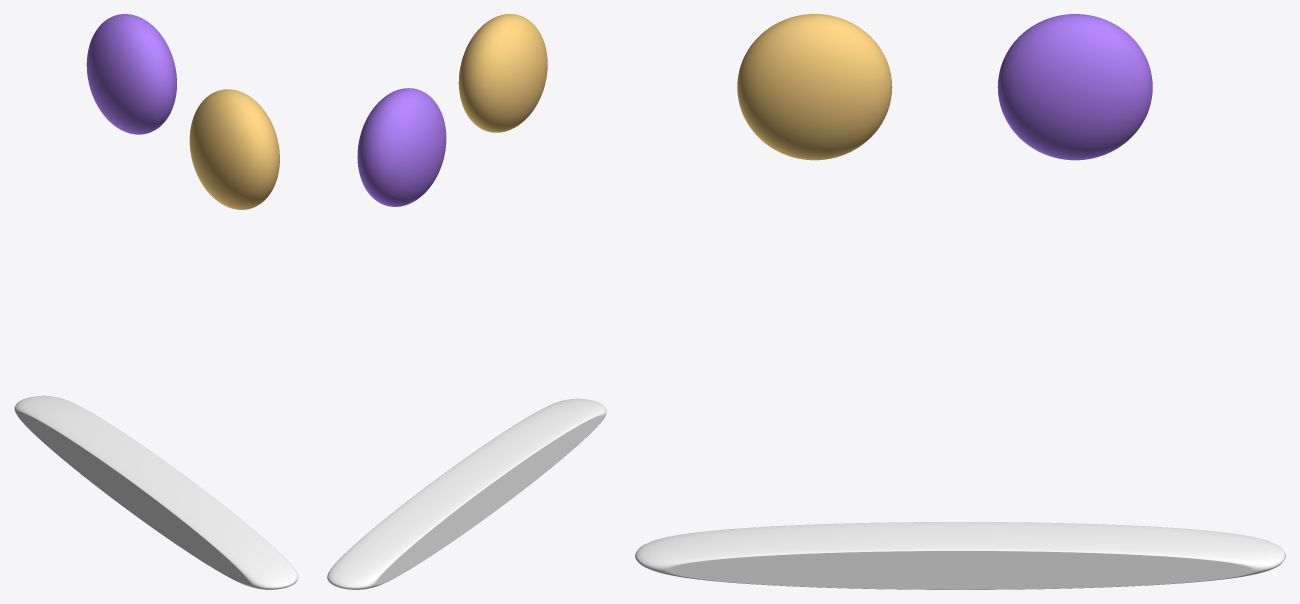
The picture shows the model from 3 angles, left to right: view 1: azimuth 30°, elevation 25°; view 2: azimuth 150°, elevation 25°; view 3: azimuth 270°, elevation 25°; orthographic projection. The views are drawn at different scales.
Parts seen in each view (by area): view 1: Sphere (×2), Cylinder 3, Text; view 2: Sphere (×2), Cylinder 3, Text; view 3: Cylinder 3, Sphere (×2).
Boxes of the visible parts, left/top/right/bottom form: Sphere (×2): left=86, top=14, right=279, bottom=209; Cylinder 3: left=14, top=395, right=298, bottom=589; Text: left=61, top=441, right=203, bottom=558; Sphere (×2): left=357, top=14, right=547, bottom=206; Cylinder 3: left=327, top=398, right=606, bottom=589; Text: left=420, top=439, right=560, bottom=557; Cylinder 3: left=635, top=522, right=1285, bottom=589; Sphere (×2): left=737, top=14, right=1152, bottom=160.
Bounding box in the file's own units: 1.62 × 8.98 × 9.24.
